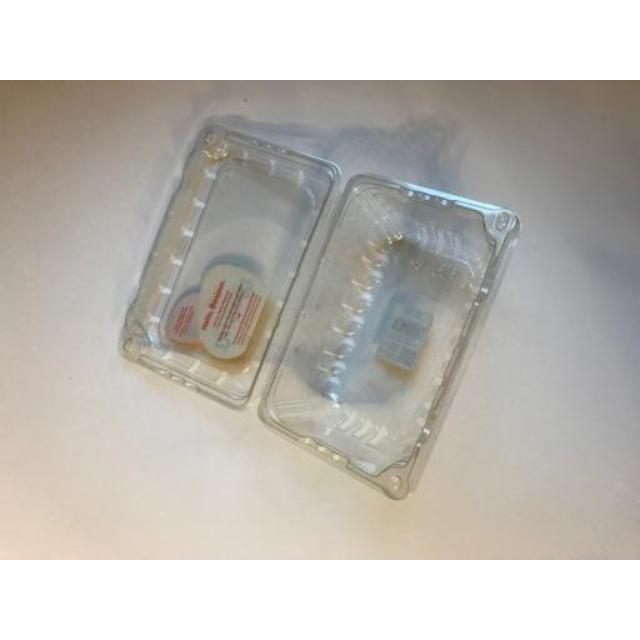plastic: (122, 119, 519, 498)
